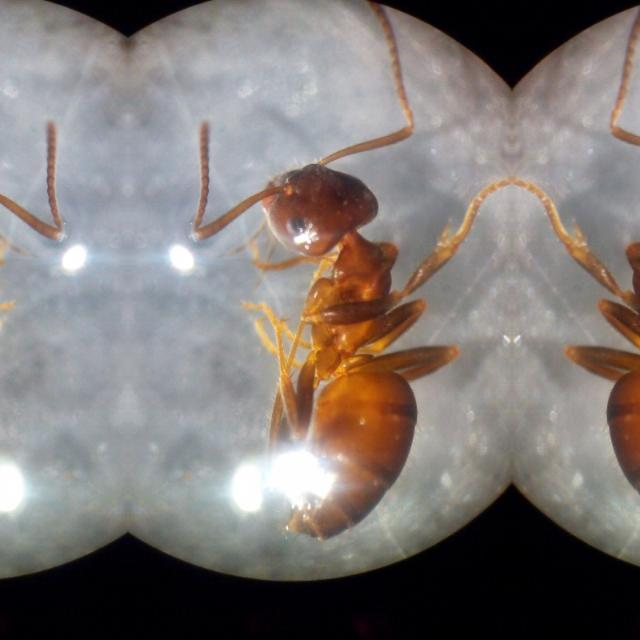Lasius: (167, 123, 493, 532), (530, 122, 640, 530), (0, 121, 88, 530)
